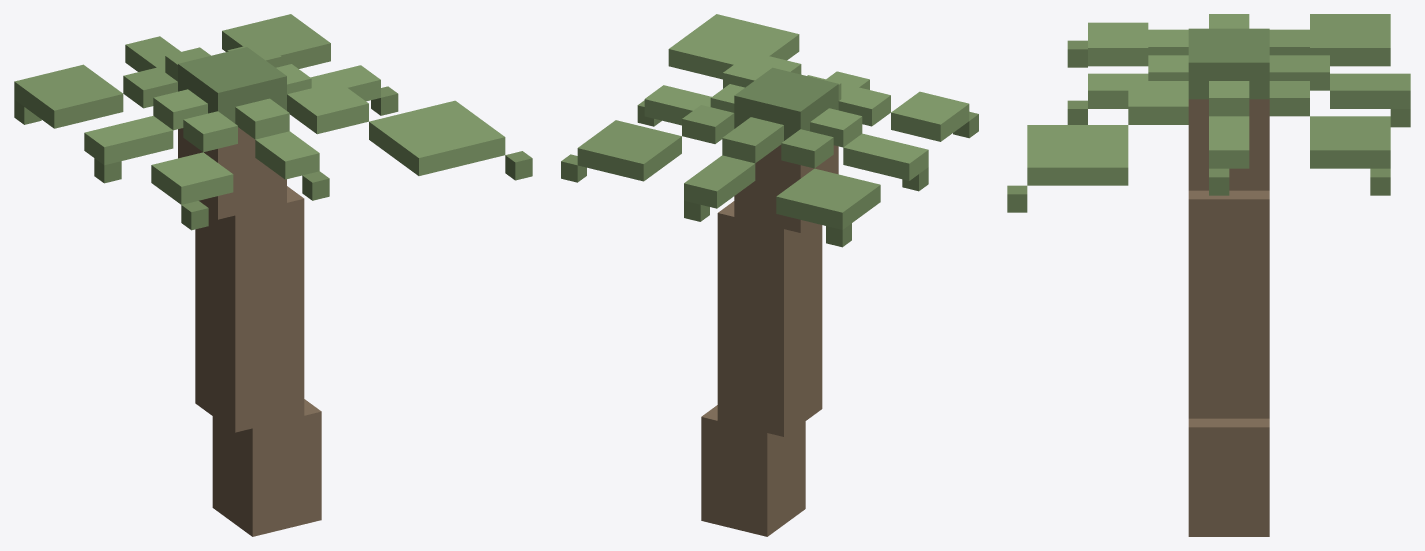
The model's file is palmera_costera_04.glb.
3 renders of one model, left to right at view 1: azimuth 30°, elevation 25°; view 2: azimuth 150°, elevation 25°; view 3: azimuth 270°, elevation 25°, orthographic. The views are drawn at different scales.
Parts seen in each view (by area): view 1: palmera_costera_04; view 2: palmera_costera_04; view 3: palmera_costera_04.
Boxes of the visible parts, box(x1,y1,x2,y2) form: palmera_costera_04: box(14, 14, 532, 536); palmera_costera_04: box(561, 14, 978, 536); palmera_costera_04: box(1007, 14, 1410, 536).
Size of the model in its own units: 1.9 by 2.5 by 2.
